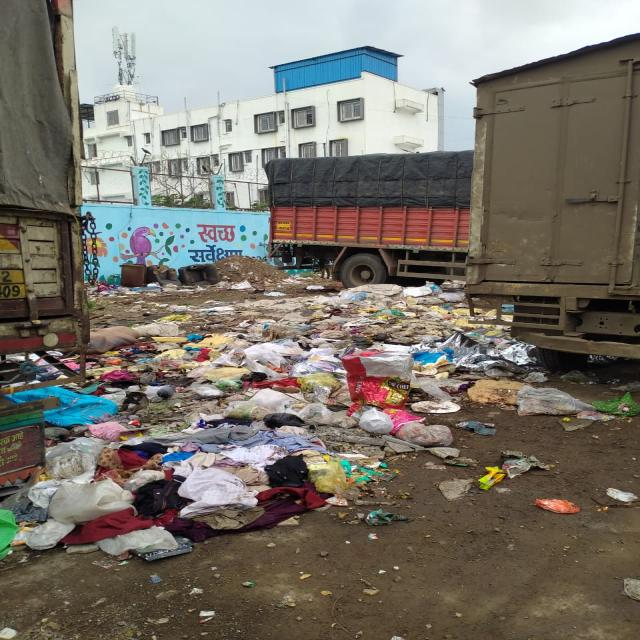garbage: (28, 327, 496, 553), (238, 284, 476, 327), (119, 264, 220, 294), (222, 257, 285, 288), (87, 280, 121, 296)
